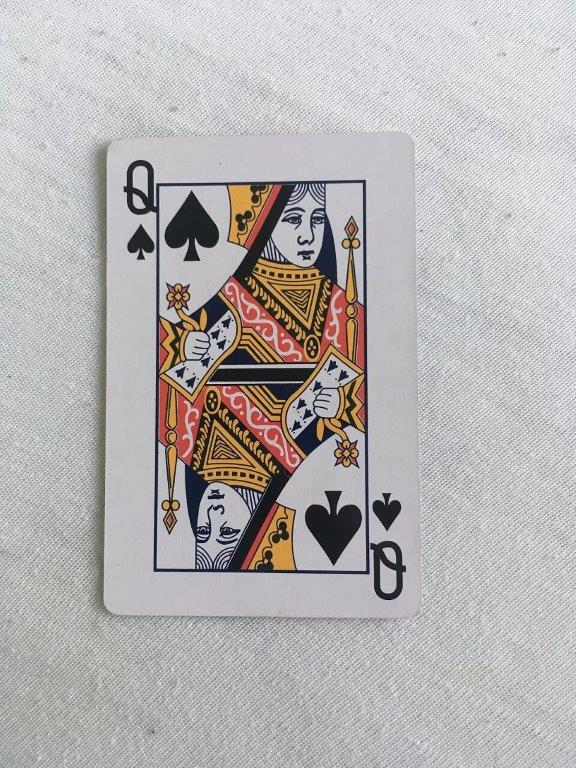QS: (99, 128, 427, 622)
